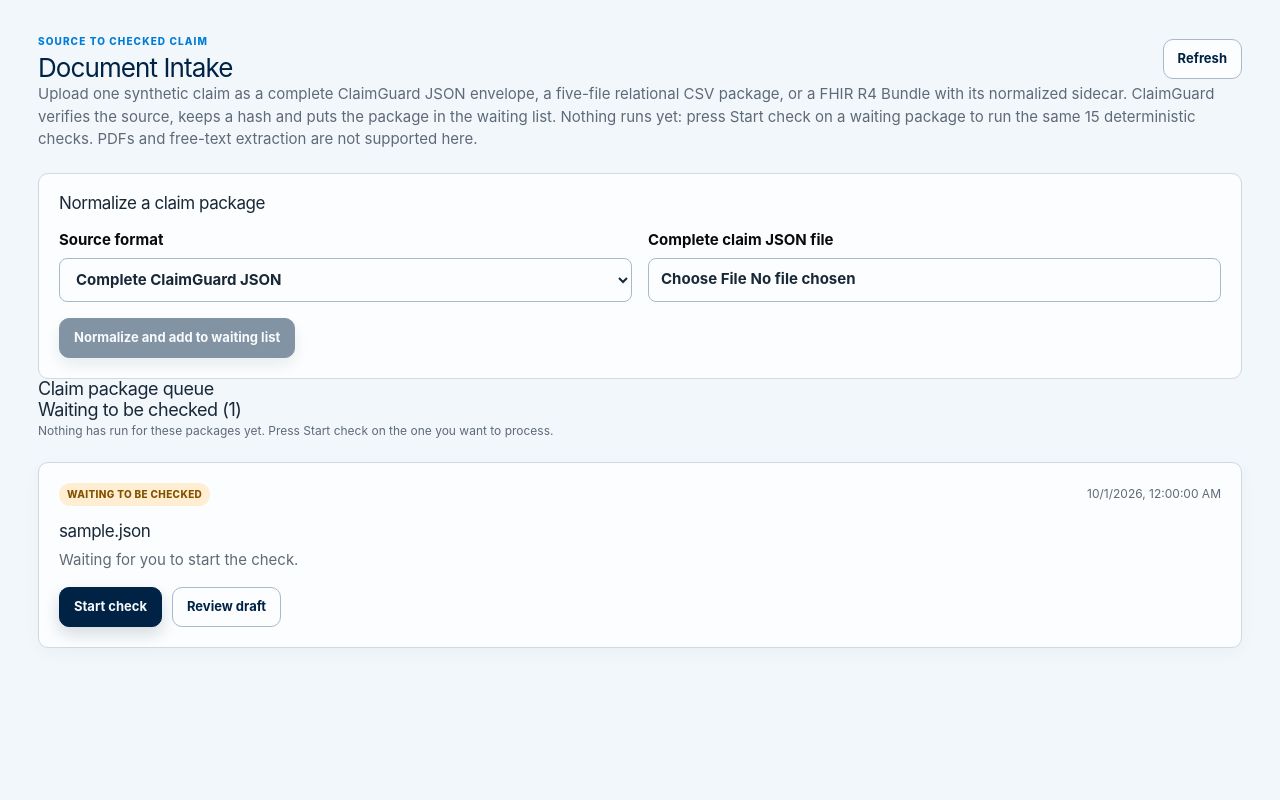
Document Intake › shows the stored source digest beside the draft for manual traceability
The image size is (1280, 800).
What coordinates should you click on to do the following:
click the button "Review draft"
I would click on:
 (227, 607)
Its box is x1=172 y1=587 x2=281 y2=627.
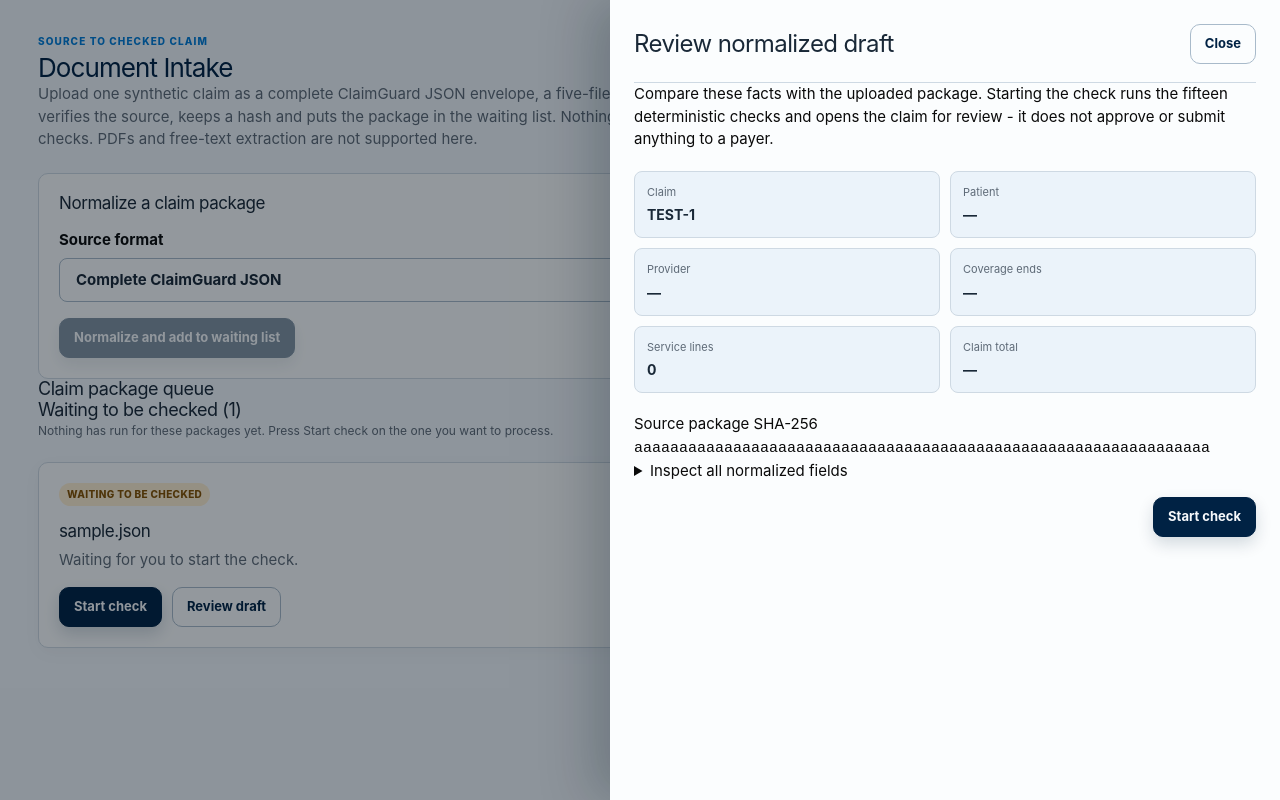
Expected: the text "Source package SHA-256" is shown, x1=634 y1=414 x2=818 y2=433
